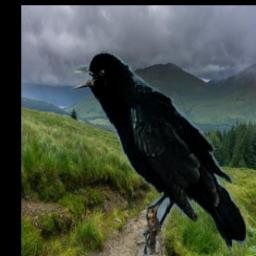Crow: (70, 51, 247, 255)
